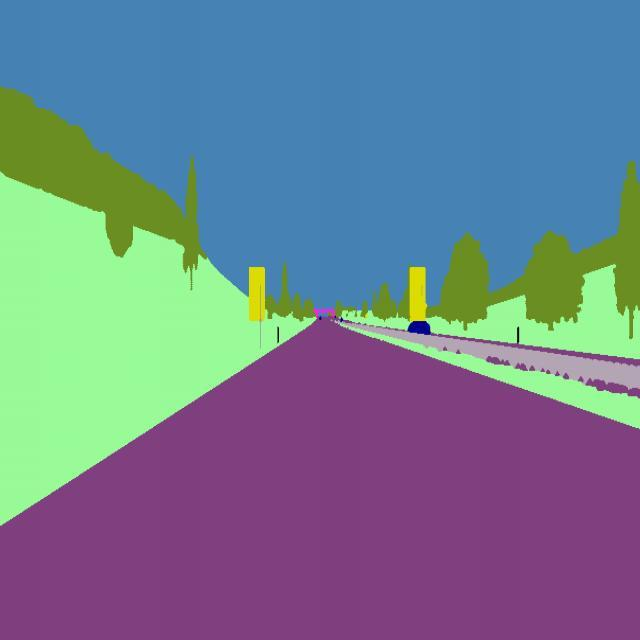safe: (404, 314, 436, 341)
